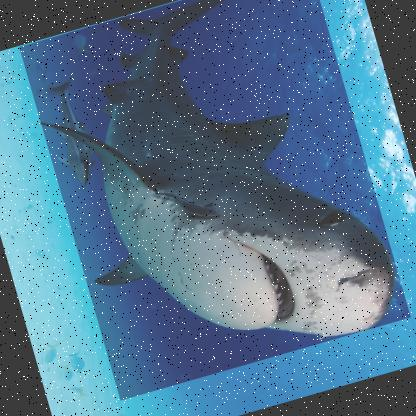tiger-shark: (17, 0, 411, 402)
